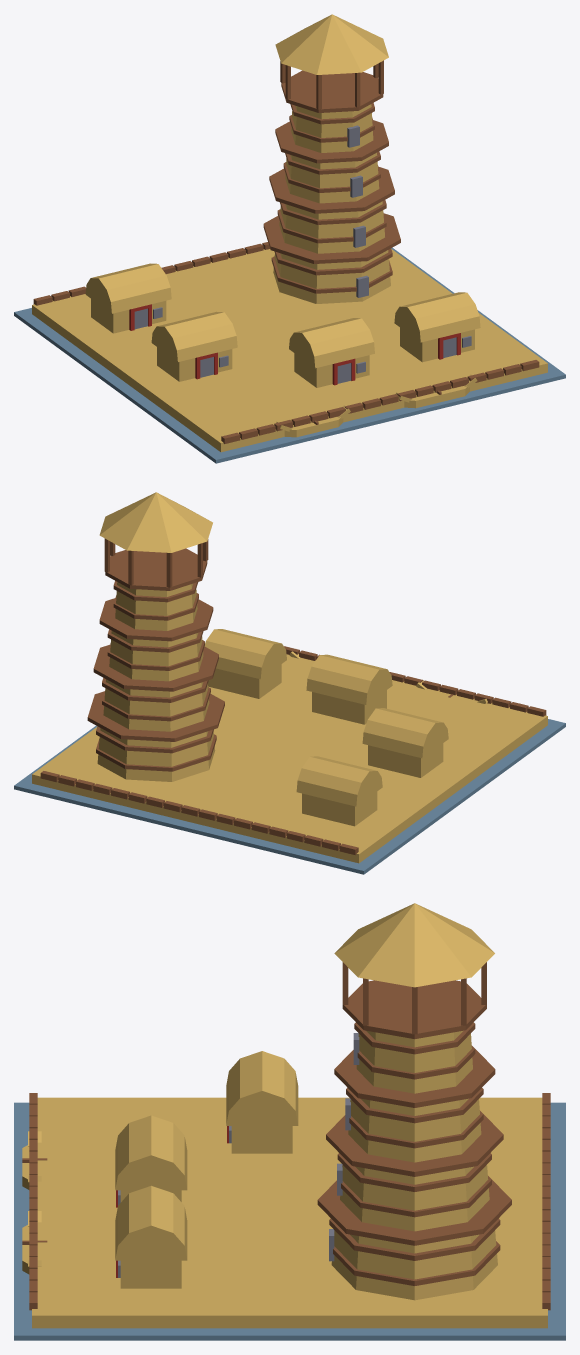
File: house-2x2-4f-totora-a.glb
The picture shows the model from 3 angles, top to bottom: view 1: azimuth 30°, elevation 25°; view 2: azimuth 150°, elevation 25°; view 3: azimuth 270°, elevation 25°; orthographic projection. The views are drawn at different scales.
Visible parts, largest first — view 1: house-2x2-4f-totora-a; view 2: house-2x2-4f-totora-a; view 3: house-2x2-4f-totora-a.
Part boxes in pixels (box(x1,y1,x2,y2)): house-2x2-4f-totora-a: box(14, 14, 565, 463); house-2x2-4f-totora-a: box(14, 492, 565, 874); house-2x2-4f-totora-a: box(14, 903, 565, 1340).
Bounding box in the file's own units: 1.99 × 1.51 × 1.99.
1 material, 1 textured.
